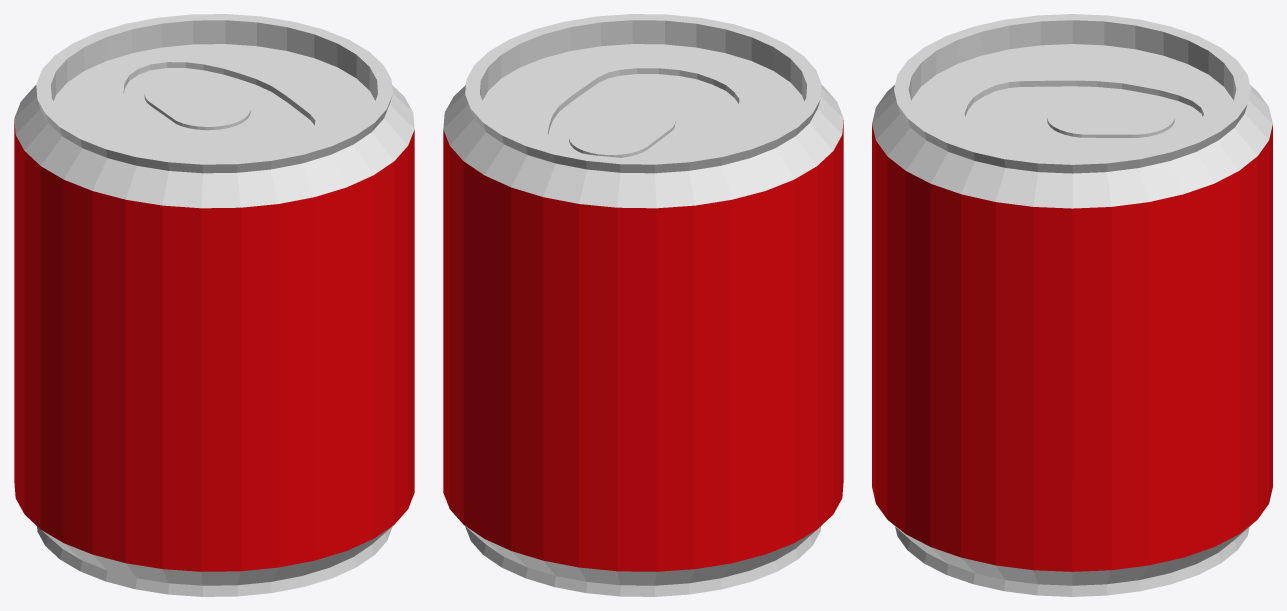
File: canette.fbx
3 views of the same model, side by side, from view 1: azimuth 30°, elevation 25°; view 2: azimuth 150°, elevation 25°; view 3: azimuth 270°, elevation 25° (orthographic).
Visible parts, largest first — view 1: Cylinder; view 2: Cylinder; view 3: Cylinder.
Boxes of the visible parts, x1,y1,x2,y2 form: Cylinder: [14, 14, 414, 596]; Cylinder: [443, 14, 843, 596]; Cylinder: [872, 14, 1272, 596].
Size of the model in its own units: 200 by 238 by 200.
